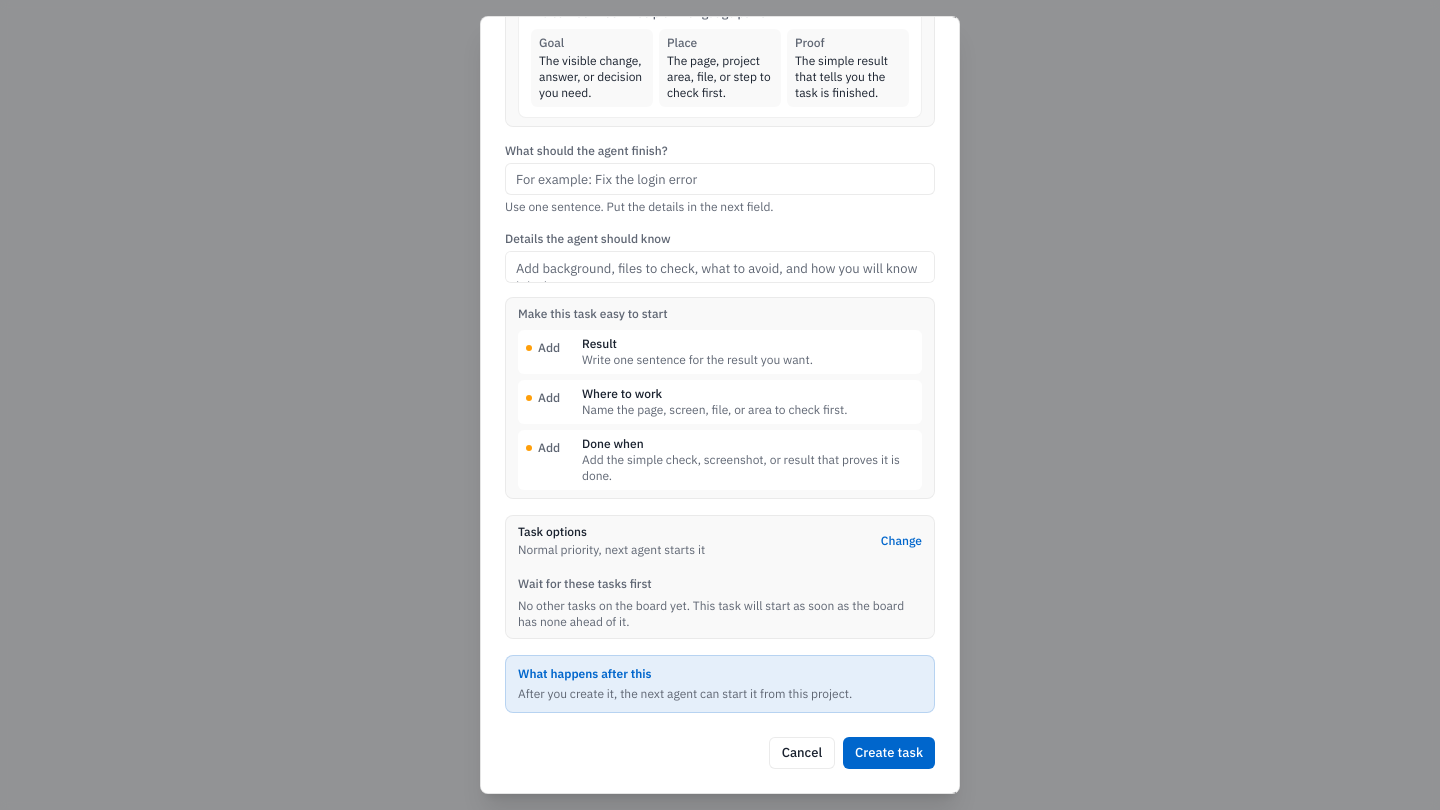
Test: TaskFormModal › keeps priority and manual assignment in task options until requested
The width and height of the screenshot is (1440, 810).
(page scrolled)
Expected: the field labelled "who should start it" is not shown
Expected: the text "Normal priority, next agent starts it" is shown, [518,542,705,558]
Click the text "Task options": (552, 532) [518,524,587,539]
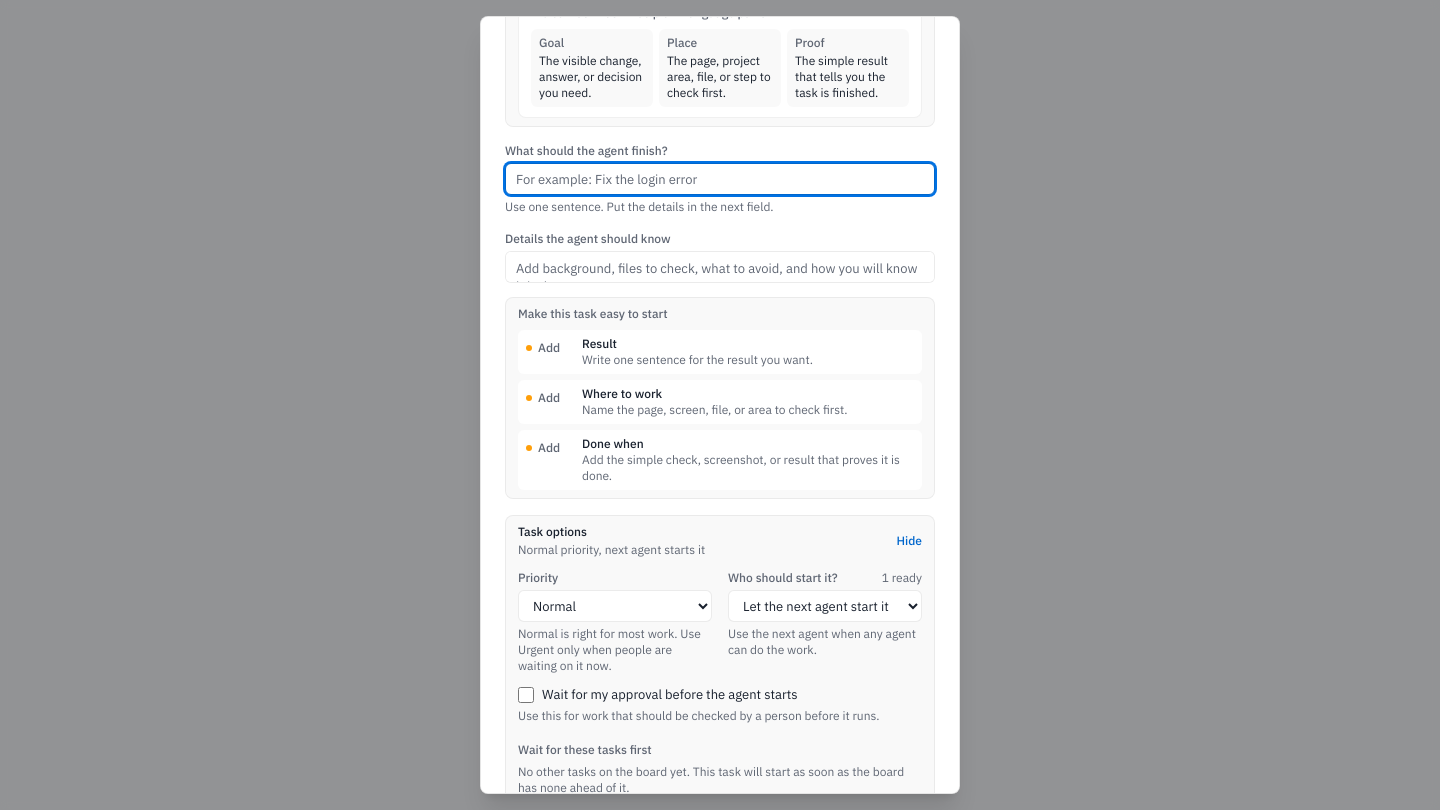
Result: the dropdown labelled "Priority" is shown at [518,590,712,622]
Result: the dropdown labelled "Who should start it?" is shown at [728,590,922,622]
